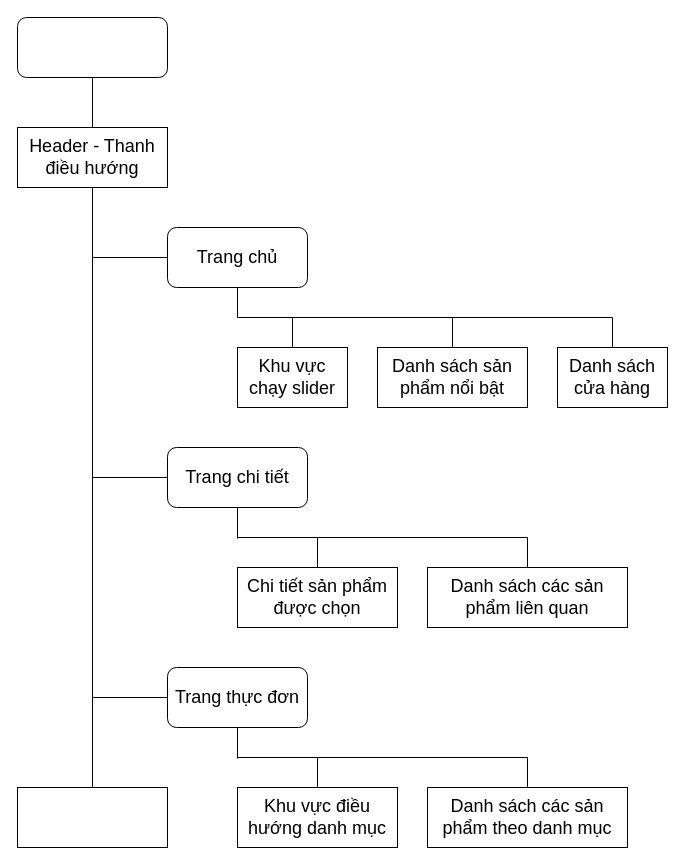
This 685x865 diagram has some shape labels left out. The centre of each missing label's shape, as x and y in pixels:
Footer: pixel 92 817
Ứng dụng web: pixel 92 47
